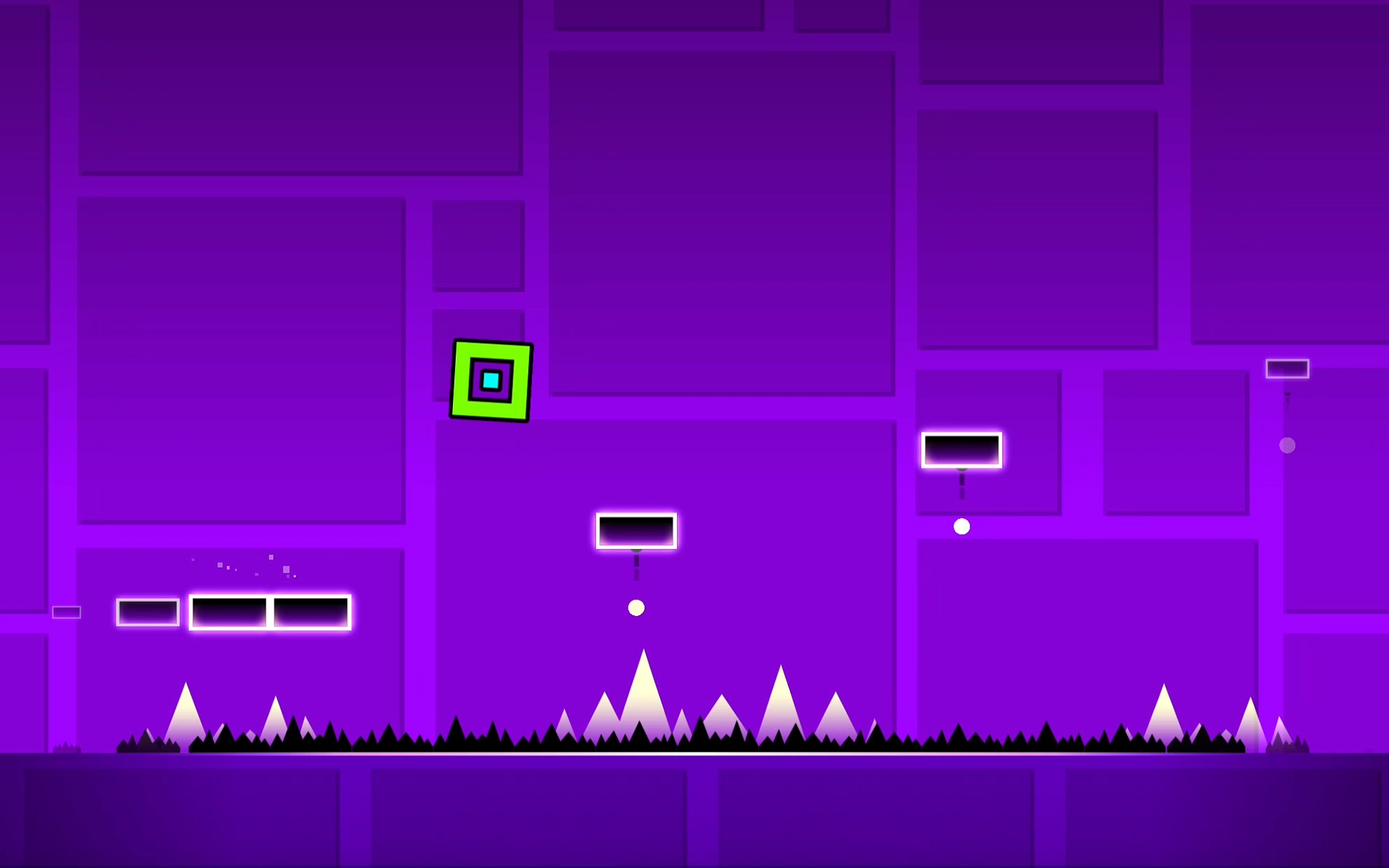Block3: (182, 596, 356, 633), (266, 596, 354, 633), (924, 431, 1007, 469), (596, 514, 681, 549), (191, 597, 271, 632), (120, 601, 181, 626), (1269, 361, 1313, 381)
Player: (451, 342, 534, 421)
Spike3: (54, 715, 1356, 761)
